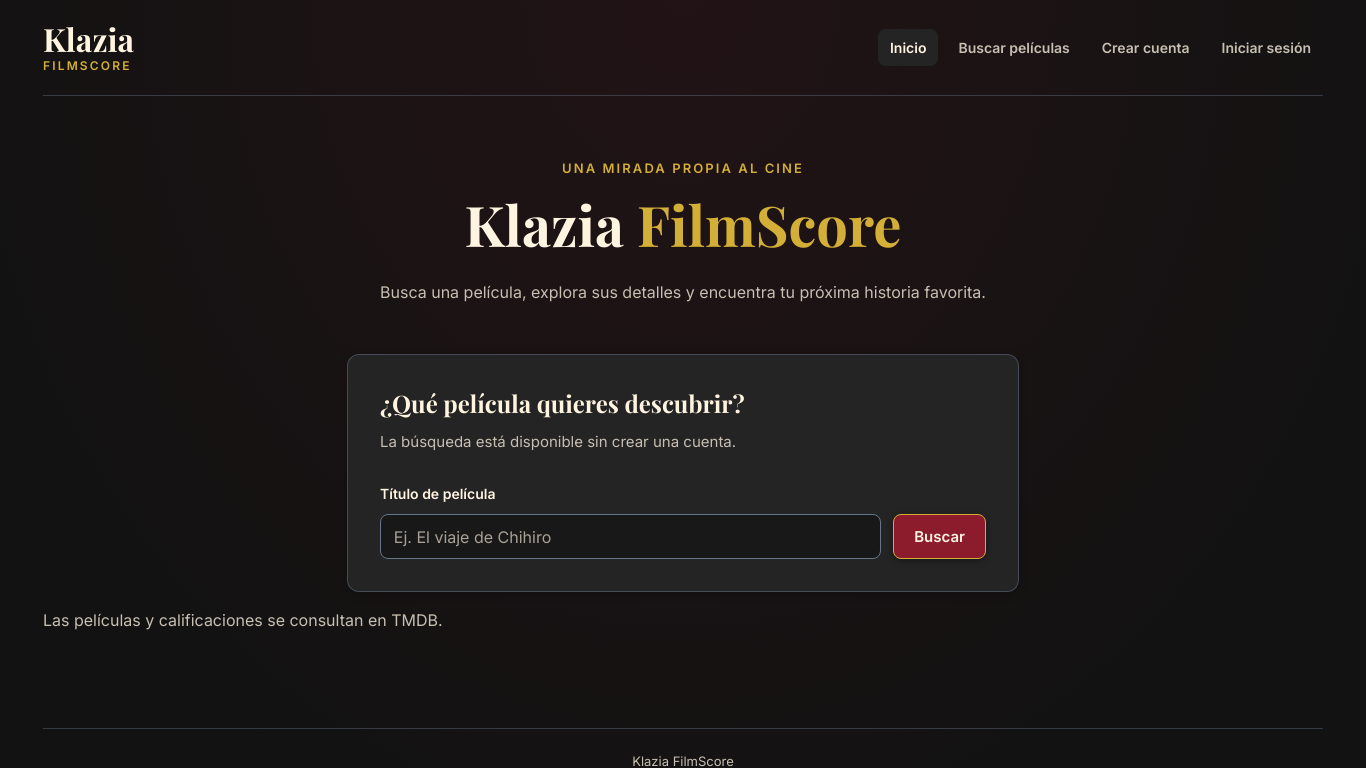
Test: public application shell › navigates to the base route for public search
Click the link "Buscar películas" at (1014, 48), box [958,39,1070,56]
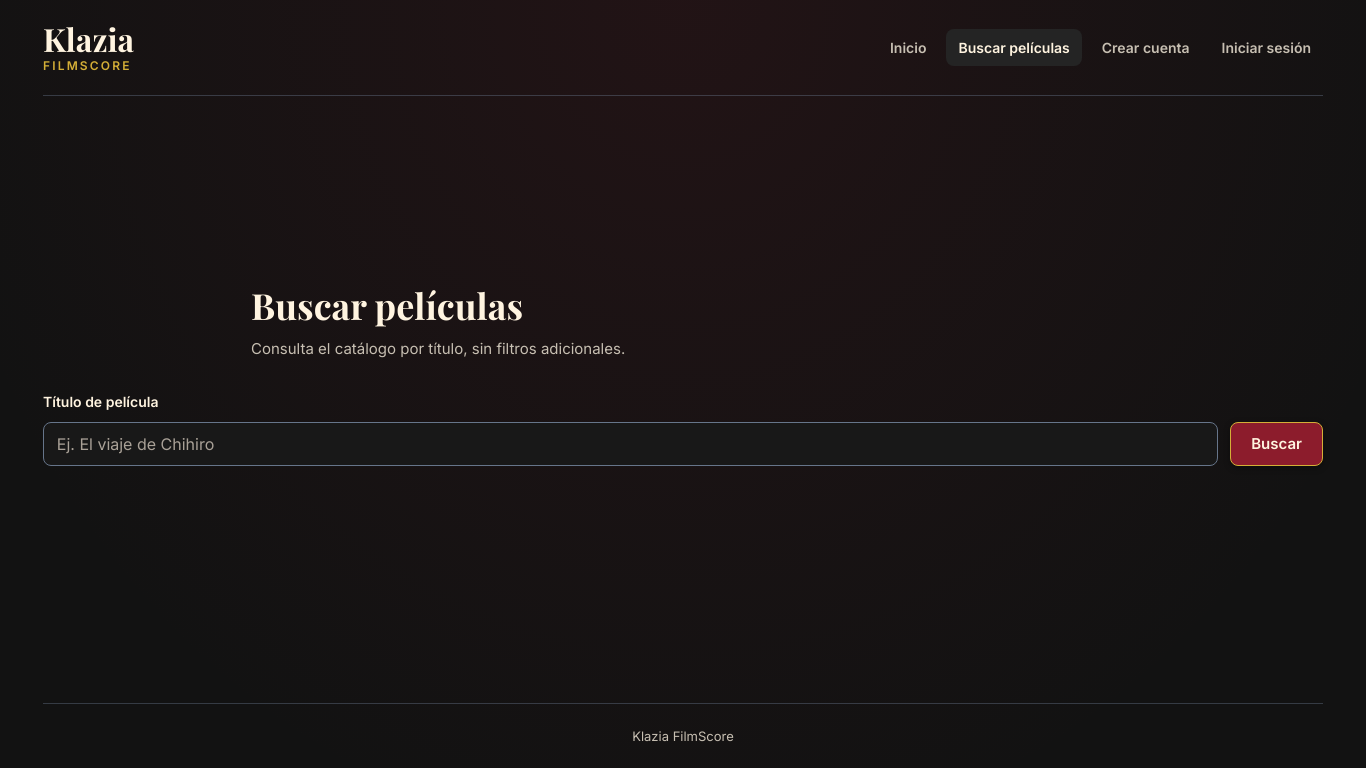
Expected: the heading "Buscar películas" is shown, [251,281,523,329]
